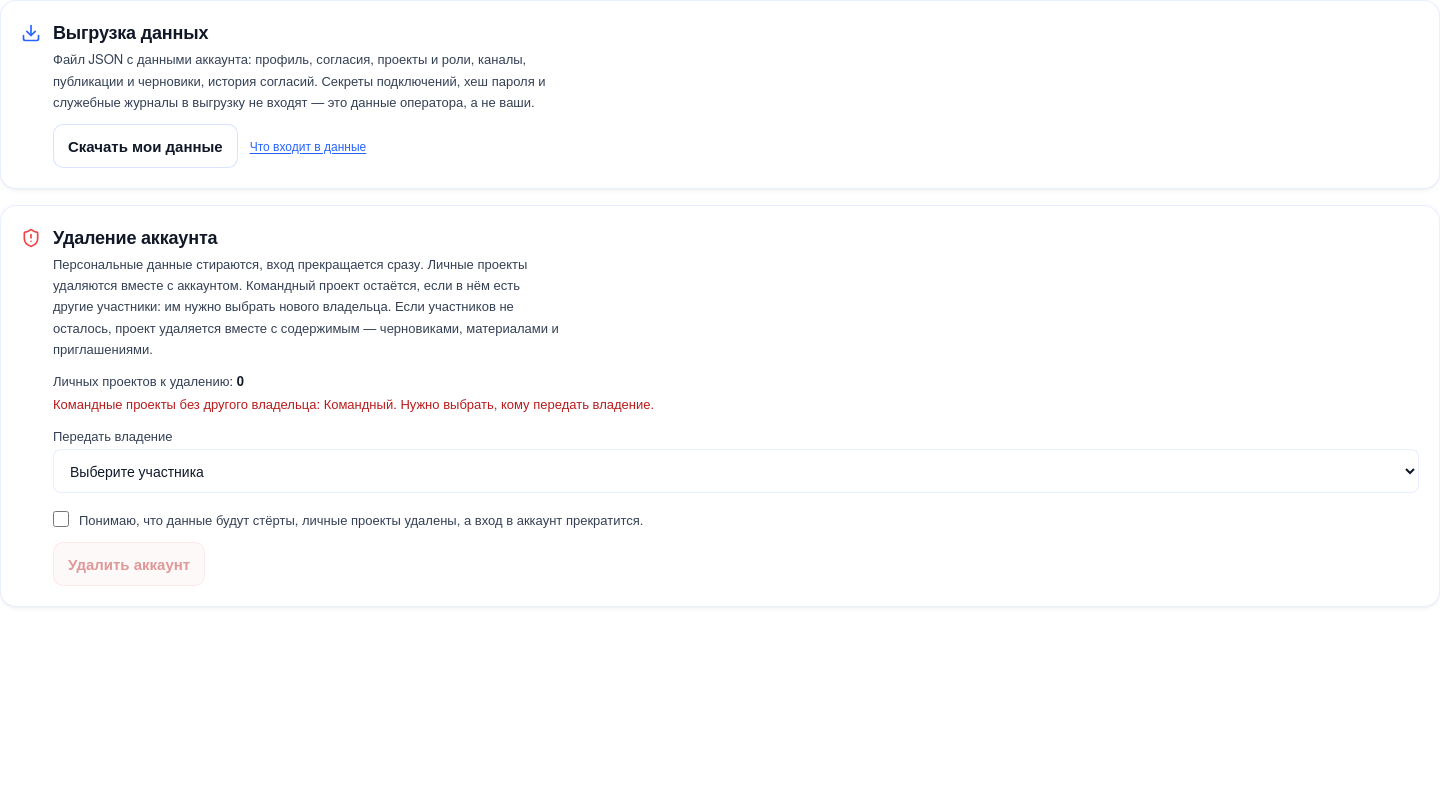
it: personal data settings section › explains a stale transfer choice instead of blaming the network
Select "Коллега" in the dropdown at (736,471), box [53,449,1419,493]
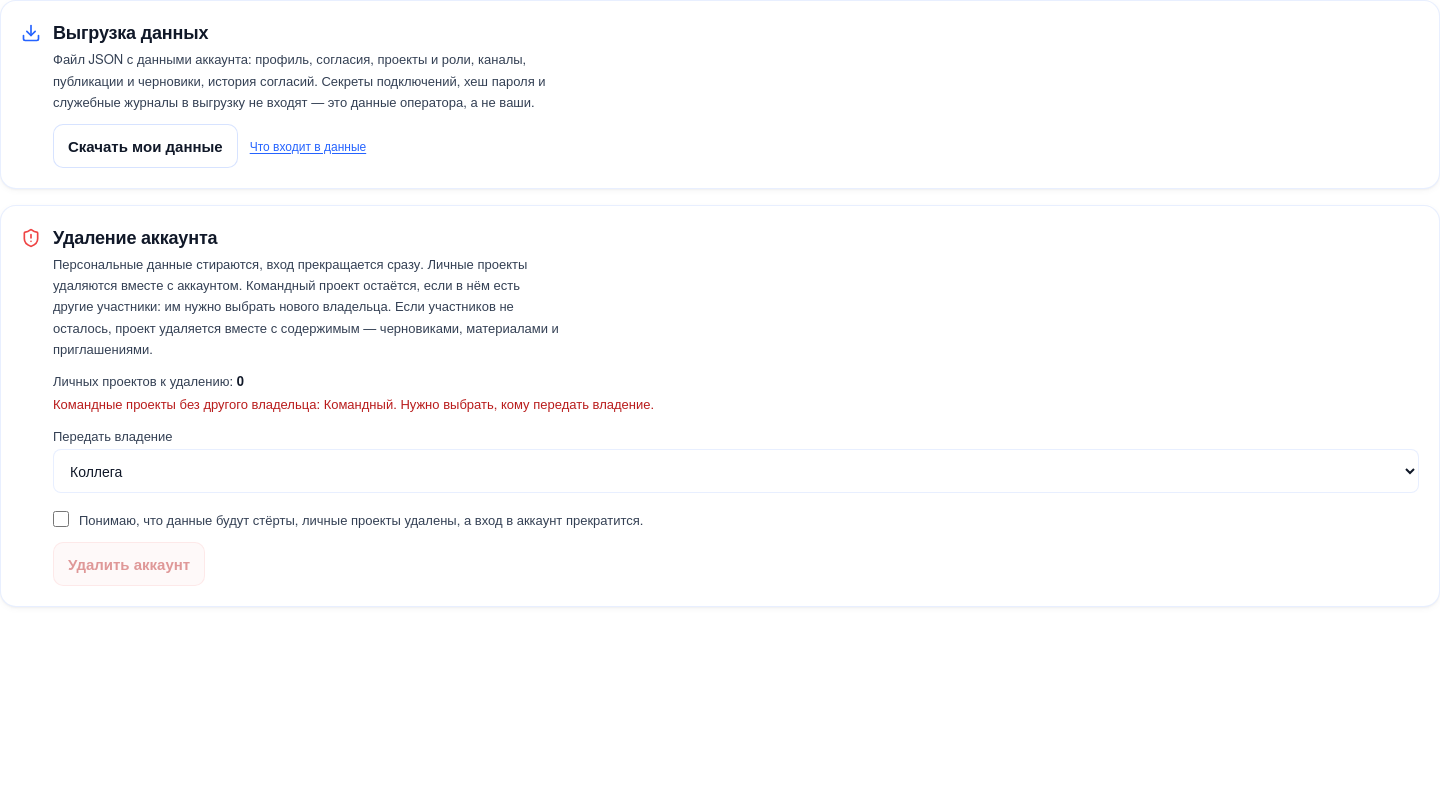
Click the checkbox at (61,519), box [53,511,69,527]
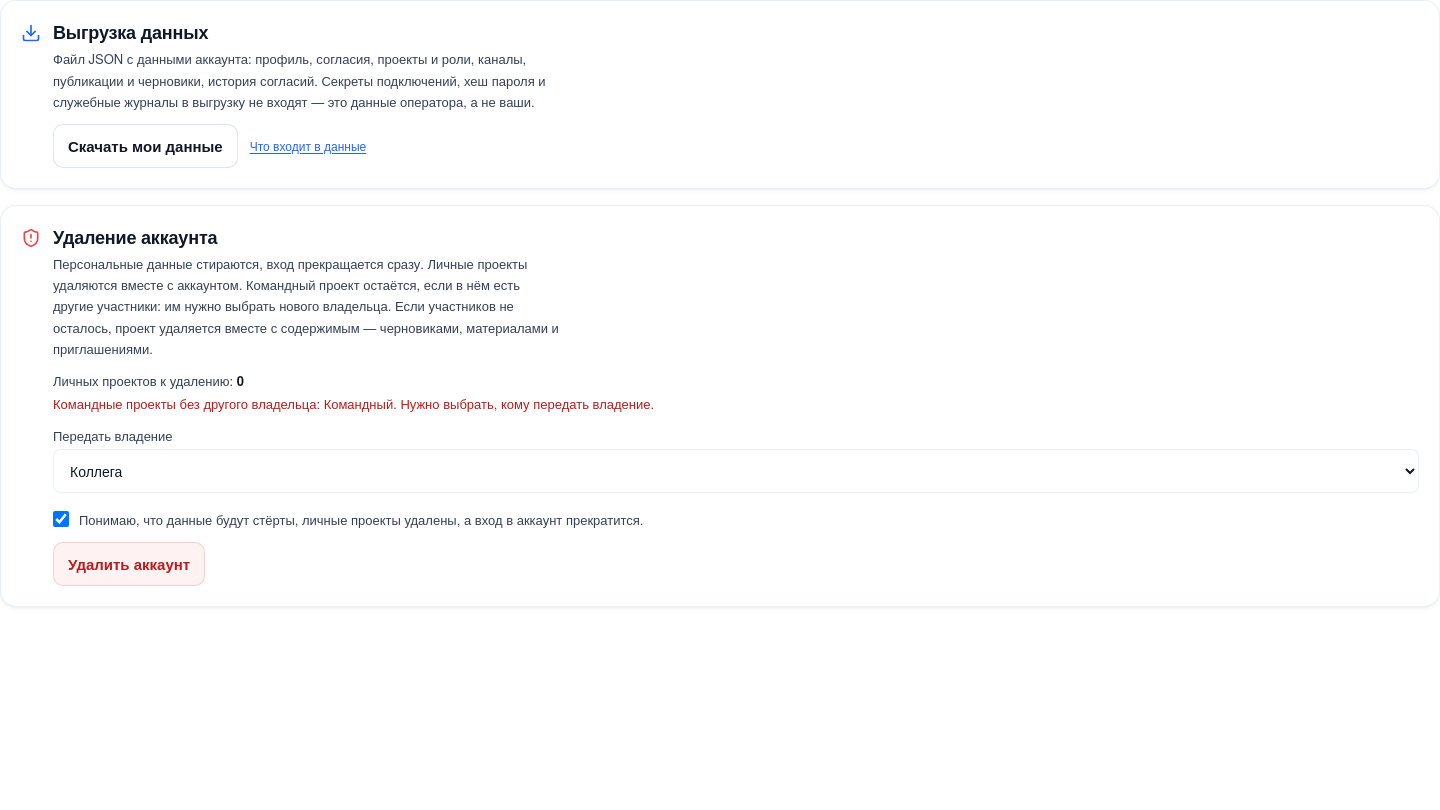
Click the button "Удалить аккаунт" at (129,564), box [53,542,205,586]
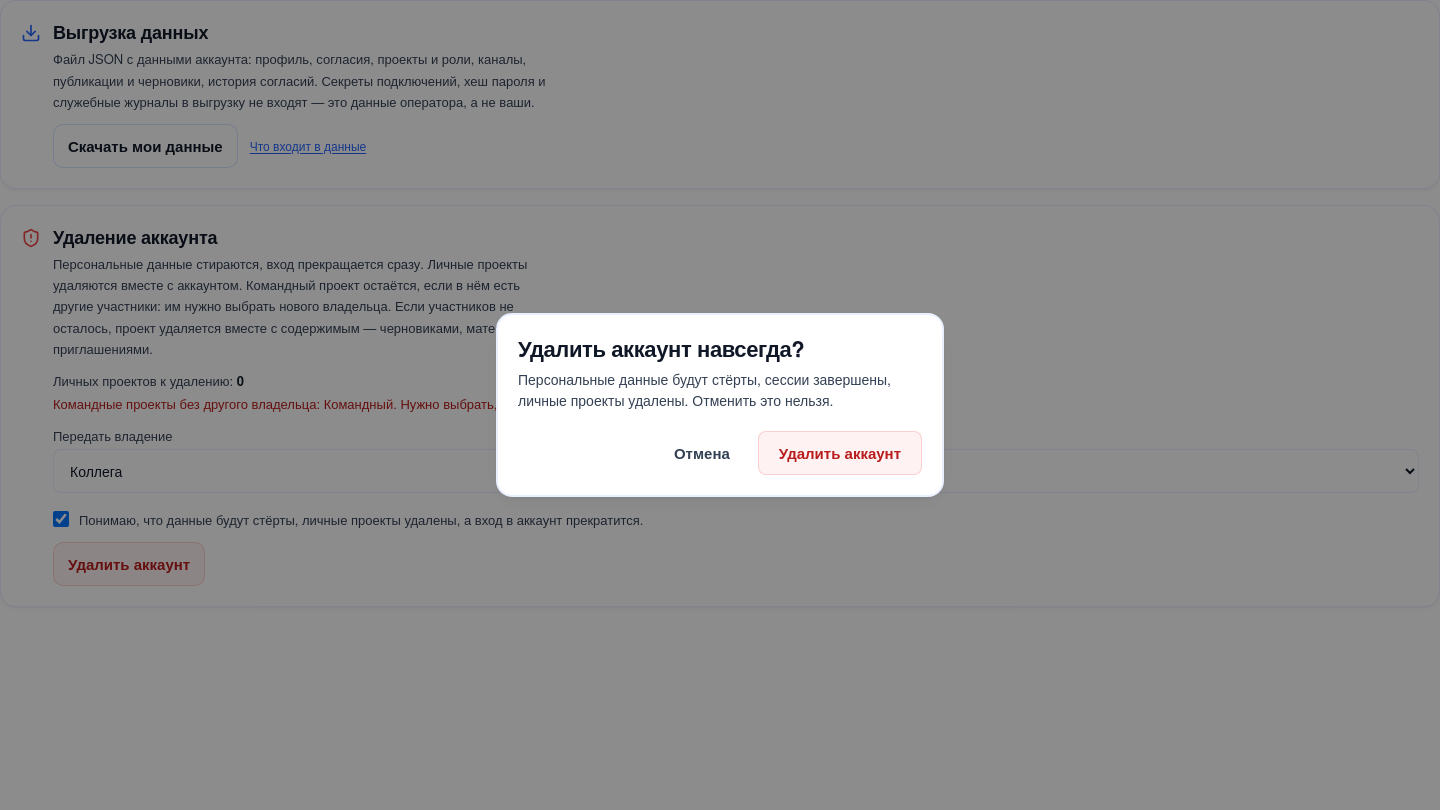
Click the button "Удалить аккаунт" at (840,453), box [758,431,922,475]
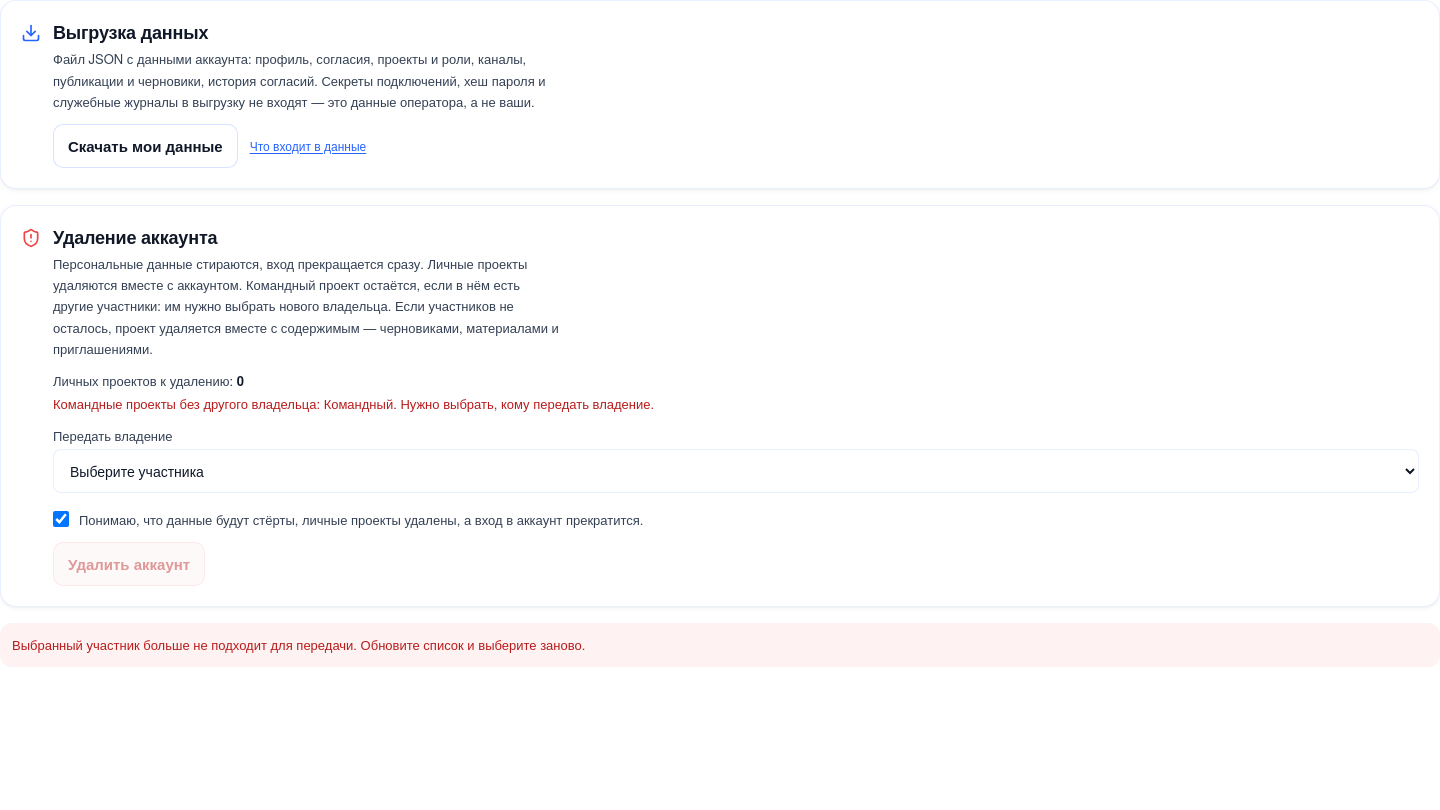
Expected: the message shows "Обновите список", [12,635,585,654]
